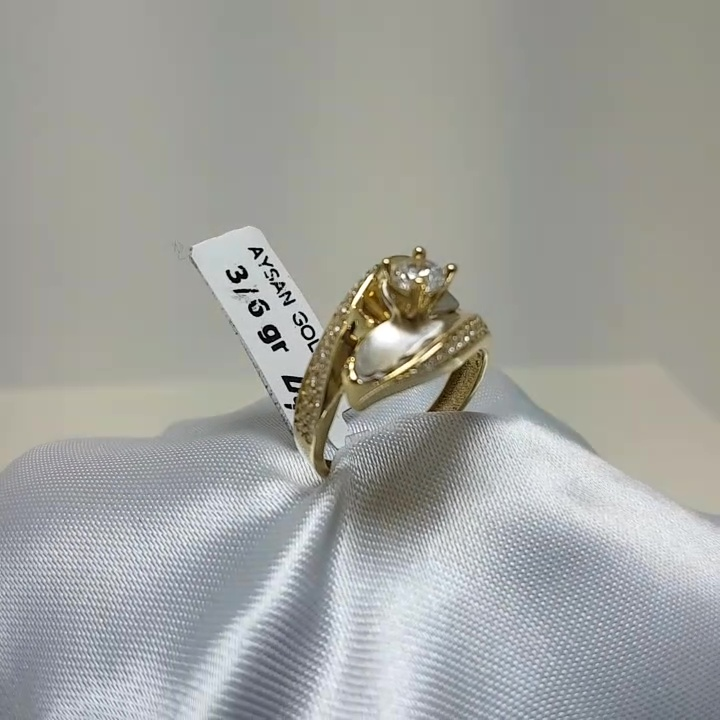Ring 6: (283, 237, 518, 499)
